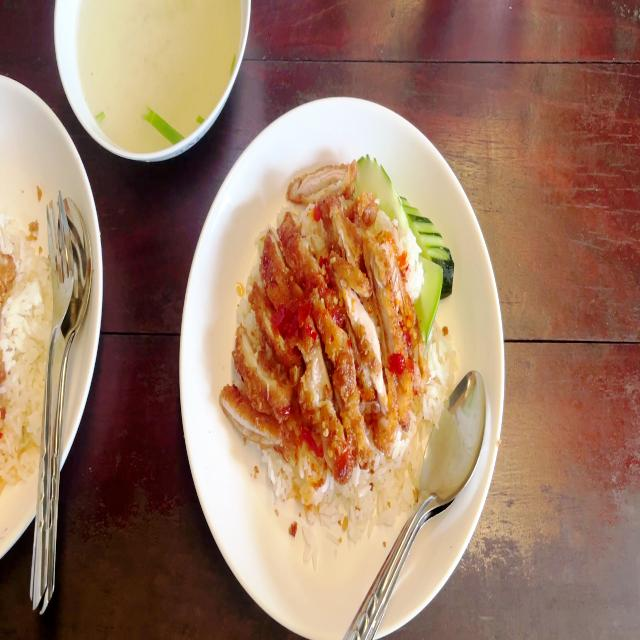chicken_rice: (227, 155, 449, 536), (0, 179, 52, 470)
cucumber: (356, 157, 453, 349)
fried_chicken: (212, 151, 427, 497), (0, 253, 15, 325), (0, 325, 6, 402)
